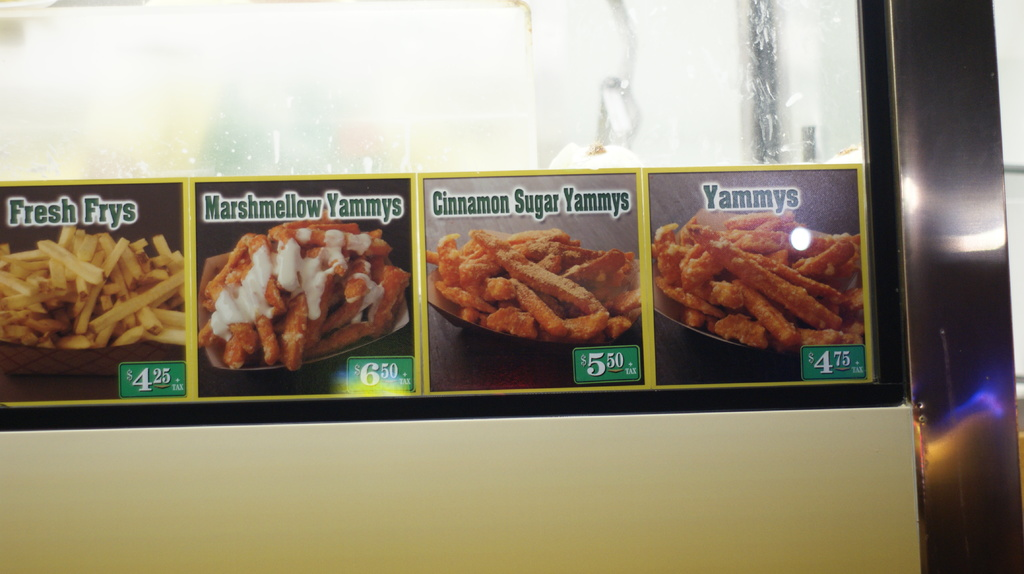French fries: (8, 212, 184, 350)
